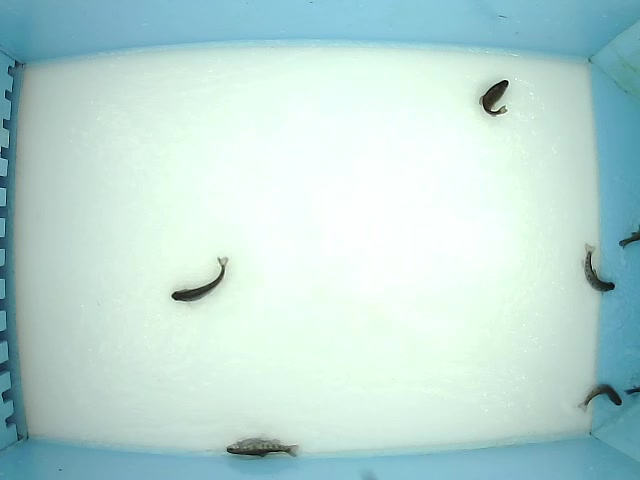fish: (171, 256, 229, 304), (225, 435, 301, 461), (581, 242, 616, 296), (576, 382, 624, 413), (478, 79, 510, 118)
